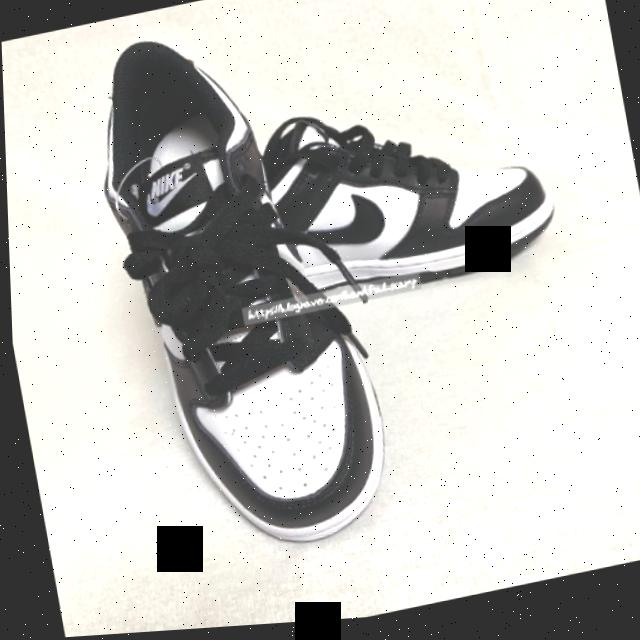shoes: (74, 0, 606, 580)
